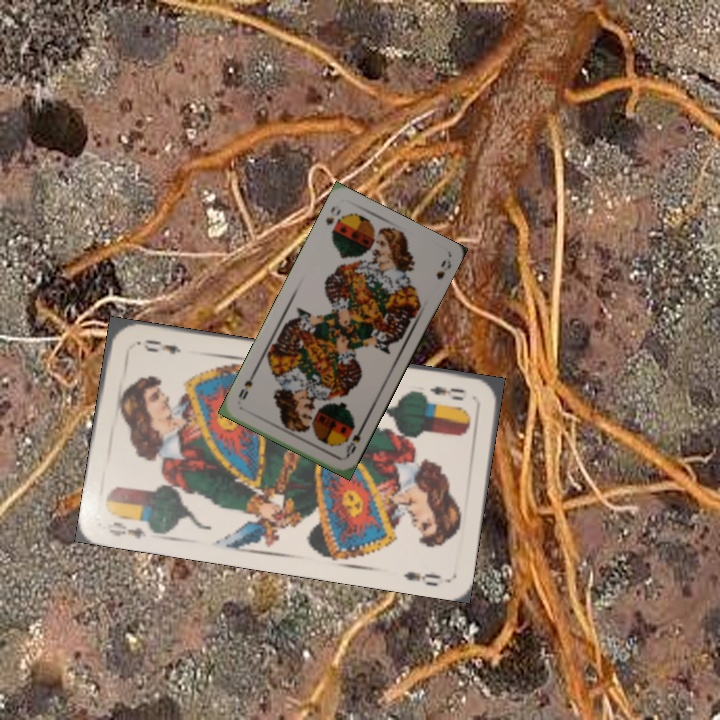EO: (103, 517, 149, 541), (426, 382, 469, 404)
SO: (342, 423, 366, 461), (321, 202, 344, 228)
